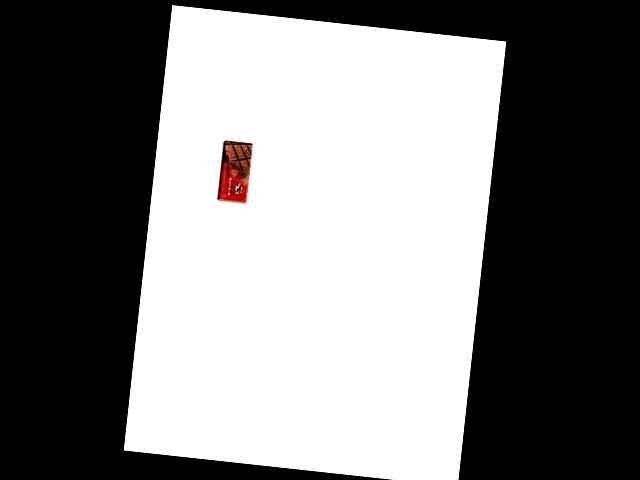chocolate: (216, 138, 254, 204)
